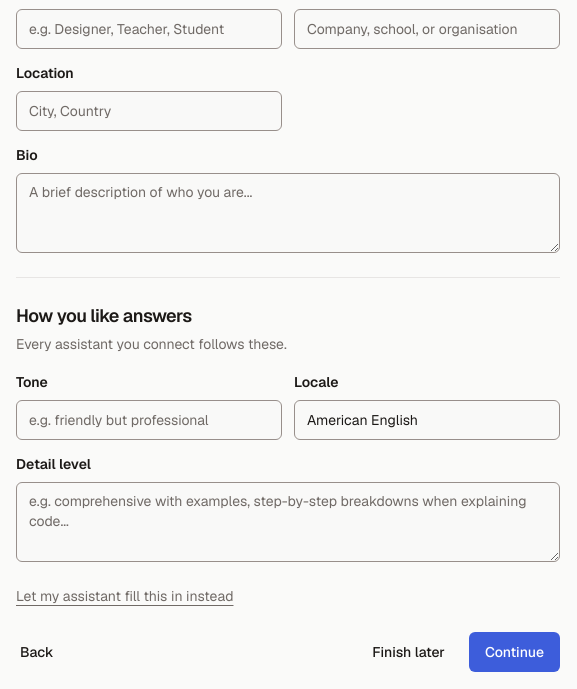
Test case: OnboardingFlow › does not count the locale it filled in from the browser as something you typed
(page scrolled)
Expected: the field labelled "Locale" holds "American English", [294, 400, 560, 440]
Click the button "Continue" at (514, 652), box [469, 632, 560, 672]
(page scrolled)
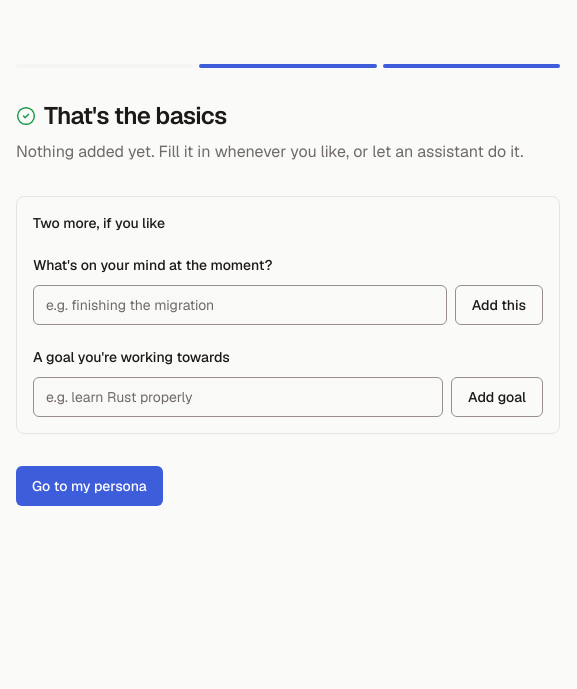
Result: the text "Nothing added yet. Fill it in whenever you like, or let an assistant do it." is shown at [16, 140, 560, 164]
